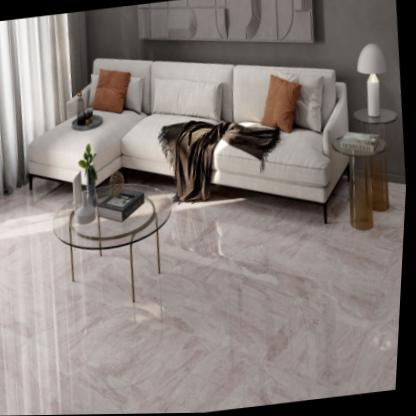Ceramic floor: (0, 199, 406, 416)
Curtains: (0, 11, 90, 200)
Lamp: (354, 44, 395, 122)
Sofa: (26, 59, 351, 226)
